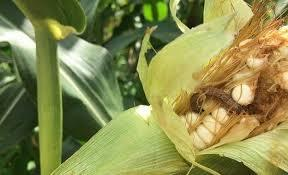fallarmy_worm: (190, 85, 253, 117)
